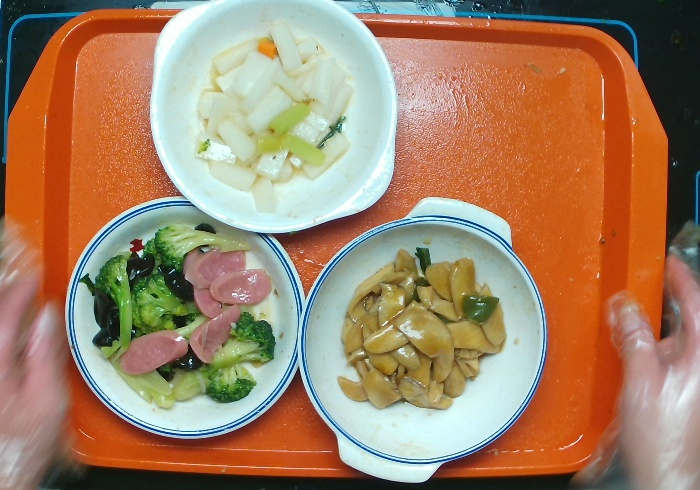HZYJPL-Dai_Er_Bai_Yuan_Wan: (144, 4, 398, 236)
HZYJPL-Lan_Bian_Dai_Er_Wan: (298, 195, 546, 487)
HZYJPL-Lan_Bian_Yuan_Die: (61, 198, 303, 443)
